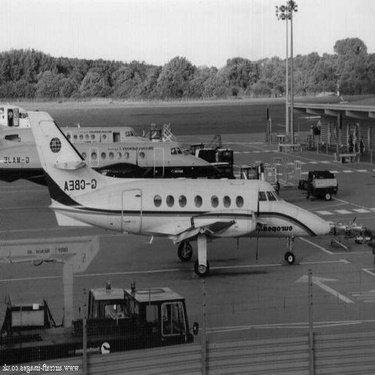airplane: (24, 114, 339, 258), (1, 137, 229, 172), (1, 93, 146, 141)
